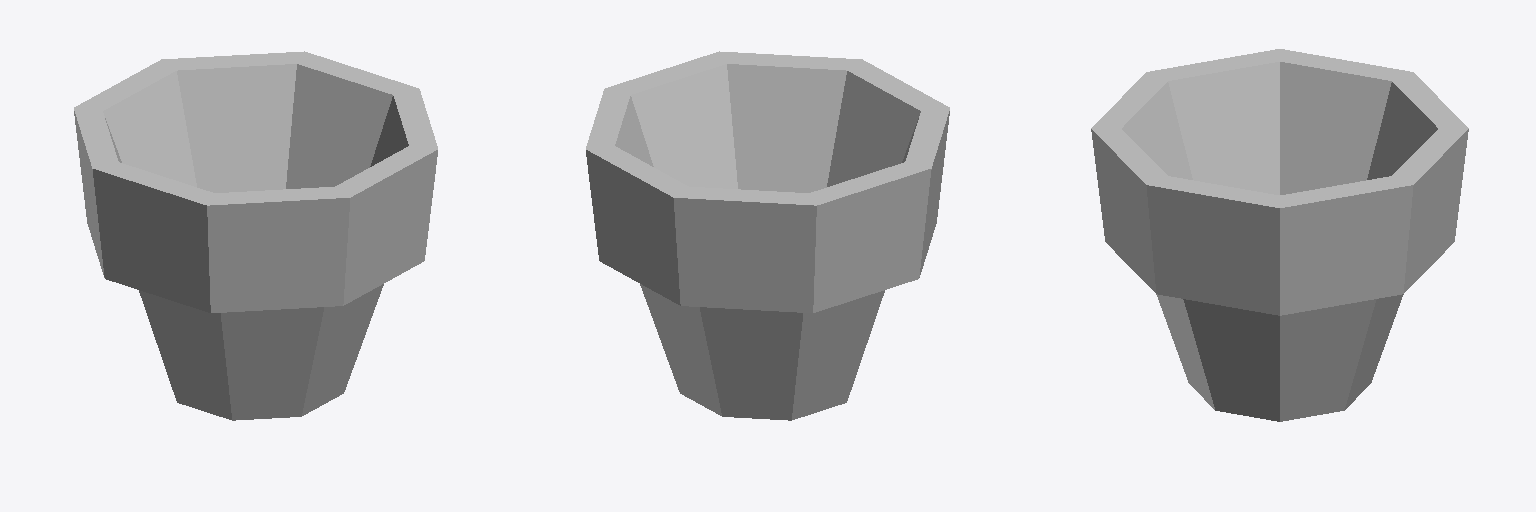
Rendered from plant_pot.obj.
The picture shows the model from 3 angles: view 1: azimuth 30°, elevation 25°; view 2: azimuth 150°, elevation 25°; view 3: azimuth 270°, elevation 25°; orthographic projection.
Visible parts, largest first — view 1: skemptyplantpotmesh; view 2: skemptyplantpotmesh; view 3: skemptyplantpotmesh.
Part boxes in pixels (left/top/right/bottom): skemptyplantpotmesh: left=74, top=51, right=437, bottom=420; skemptyplantpotmesh: left=586, top=51, right=949, bottom=420; skemptyplantpotmesh: left=1091, top=49, right=1468, bottom=421.
Bounding box in the file's own units: 60 × 44.66 × 60.